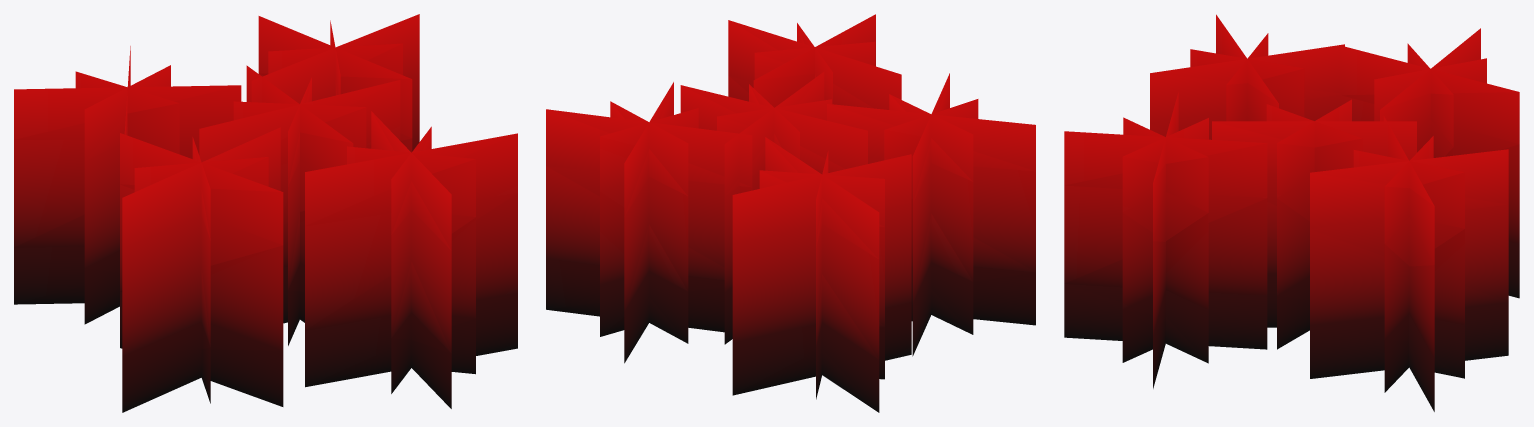
The model's file is grass.glb.
The picture shows the model from 3 angles, left to right: view 1: azimuth 30°, elevation 25°; view 2: azimuth 150°, elevation 25°; view 3: azimuth 270°, elevation 25°; orthographic projection. The views are drawn at different scales.
Visible parts, largest first — view 1: grass; view 2: grass; view 3: grass.
Boxes of the visible parts, x1,y1,x2,y2 form: grass: [14, 14, 517, 412]; grass: [546, 14, 1035, 412]; grass: [1064, 14, 1519, 411].
Size of the model in its own units: 2 by 1 by 2.
